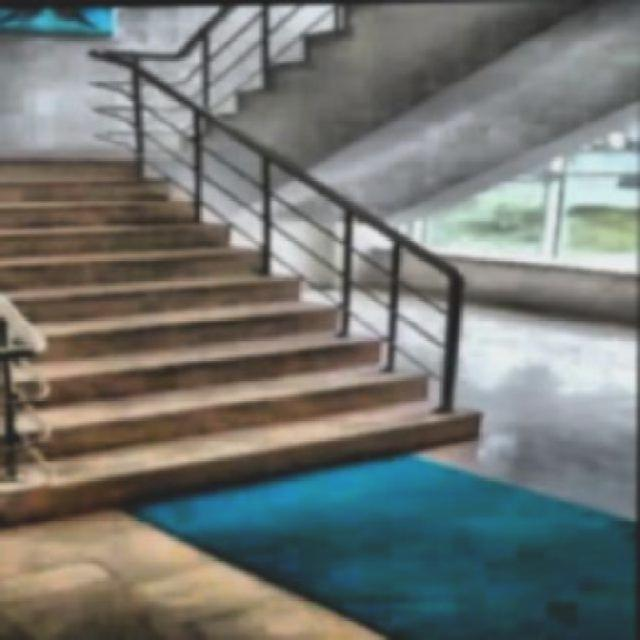stair: (2, 138, 530, 524)
